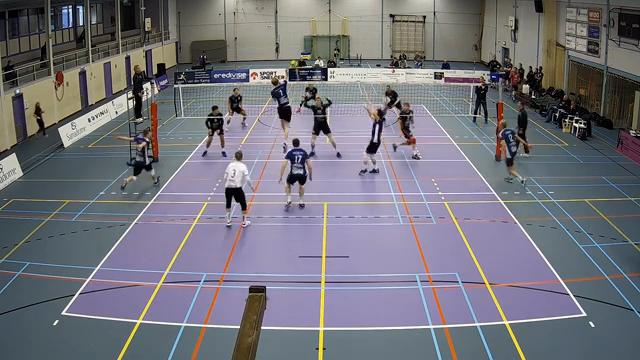Attack: (269, 65, 291, 158)
Player: (116, 128, 159, 189), (303, 96, 341, 157), (224, 150, 254, 226), (279, 138, 311, 209), (499, 120, 528, 184), (359, 108, 385, 174), (393, 103, 420, 159), (202, 106, 226, 156), (226, 88, 246, 129), (297, 83, 317, 112), (385, 86, 401, 114)
ball: (289, 59, 300, 68)
